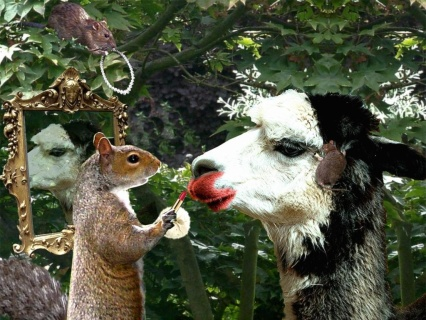Squirrel: (0, 130, 177, 319)
